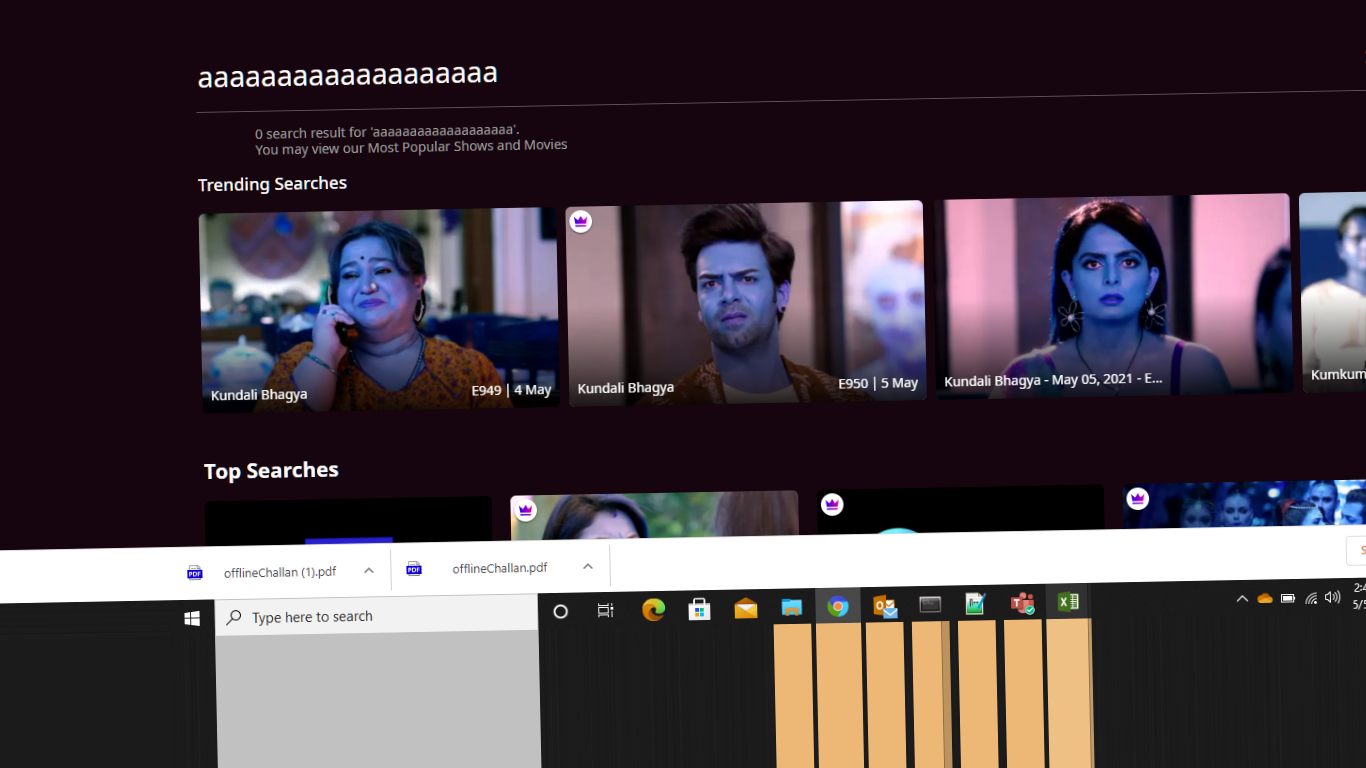noresultsfound: (247, 116, 578, 171)
searchtextbox: (195, 54, 1365, 105)
